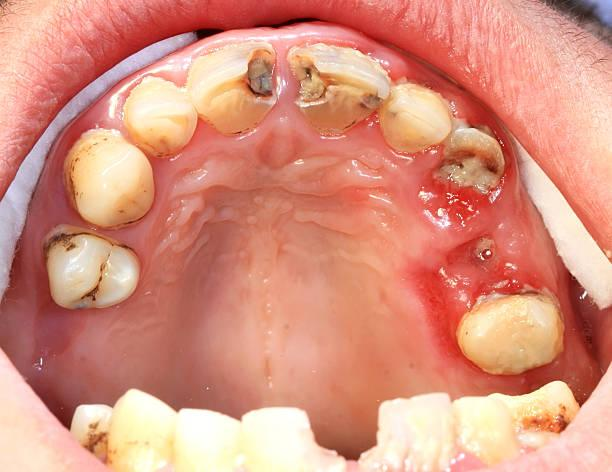Caries: (234, 49, 331, 110), (434, 136, 514, 207)
Gingivitis: (435, 226, 537, 303)
